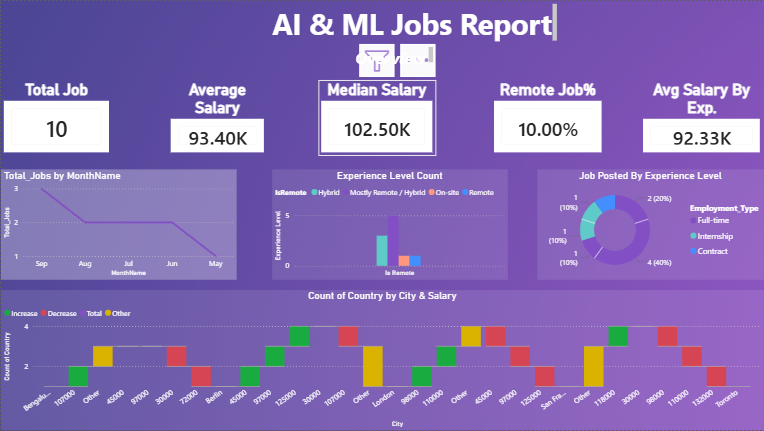

The dashboard page shown, as its layout file describes it:
{"tool":"powerbi","page":{"name":"Overview","canvas":[1280,720],"ordinal":0},"visuals":[{"type":"cardVisual","title":"Average Salary","fields":{"Data":["Fact_Jobs.Avg_Salary"]},"box":[280,133.3,166.7,126.7],"z":0},{"type":"cardVisual","title":"Median Salary","fields":{"Data":["Fact_Jobs.Median_Salary"]},"box":[533.3,133.3,196.7,126.7],"z":1000},{"type":"cardVisual","title":"Remote Job%","fields":{"Data":["Fact_Jobs.Remote_Job%"]},"box":[823.3,133.3,190,126.7],"z":2000},{"type":"cardVisual","title":"Avg Salary By Exp.","fields":{"Data":["Fact_Jobs.Avg_Salary_By_Experience"]},"box":[1073.3,133.3,206.7,126.7],"z":3000},{"type":"cardVisual","title":"Total Job","fields":{"Data":["Fact_Jobs.Total_Jobs"]},"box":[0,133.3,186.7,126.7],"z":4000},{"type":"lineChart","fields":{"Category":["Dim_Date.MonthName"],"Y":["Fact_Jobs.Total_Jobs"]},"box":[0,282.5,395,185],"z":5000},{"type":"clusteredColumnChart","title":"Experience Level Count","fields":{"Series":["Fact_Jobs.IsRemote"],"Y":["CountNonNull(Fact_Jobs.Experience_Level)"]},"box":[455,282.5,395,185],"z":6000},{"type":"donutChart","title":"Job Posted By Experience Level ","fields":{"Series":["Fact_Jobs.IsRemote"],"Category":["Fact_Jobs.Employment_Type"],"Y":["Fact_Jobs.Total_Jobs"]},"box":[900,282.5,380,185],"z":7000},{"type":"waterfallChart","title":"Count of Country by City & Salary","fields":{"Category":["Dim_Locations.City"],"Breakdown":["Fact_Jobs.Salary_USD"],"Y":["CountNonNull(Dim_Locations.Country)"]},"box":[0,485,1280,235],"z":8000},{"type":"textbox","box":[447.5,0,490,72.5],"z":9000},{"type":"textbox","box":[590,72.5,140,40],"z":10000}]}

Visuals, with their boxes in screenshot pixels (x1, y1, x2, y2), scaled from the page's 1280x720 canvas onto the 764x431 screenshot:
"Average Salary" cardVisual: 167,80,267,156
"Median Salary" cardVisual: 318,80,436,156
"Remote Job%" cardVisual: 491,80,605,156
"Avg Salary By Exp." cardVisual: 641,80,763,156
"Total Job" cardVisual: 0,80,111,156
lineChart - Dim_Date.MonthName x Fact_Jobs.Total_Jobs: 0,169,236,280
"Experience Level Count" clusteredColumnChart: 272,169,507,280
"Job Posted By Experience Level " donutChart: 537,169,763,280
"Count of Country by City & Salary" waterfallChart: 0,290,763,430
textbox: 267,0,560,43
textbox: 352,43,436,67
